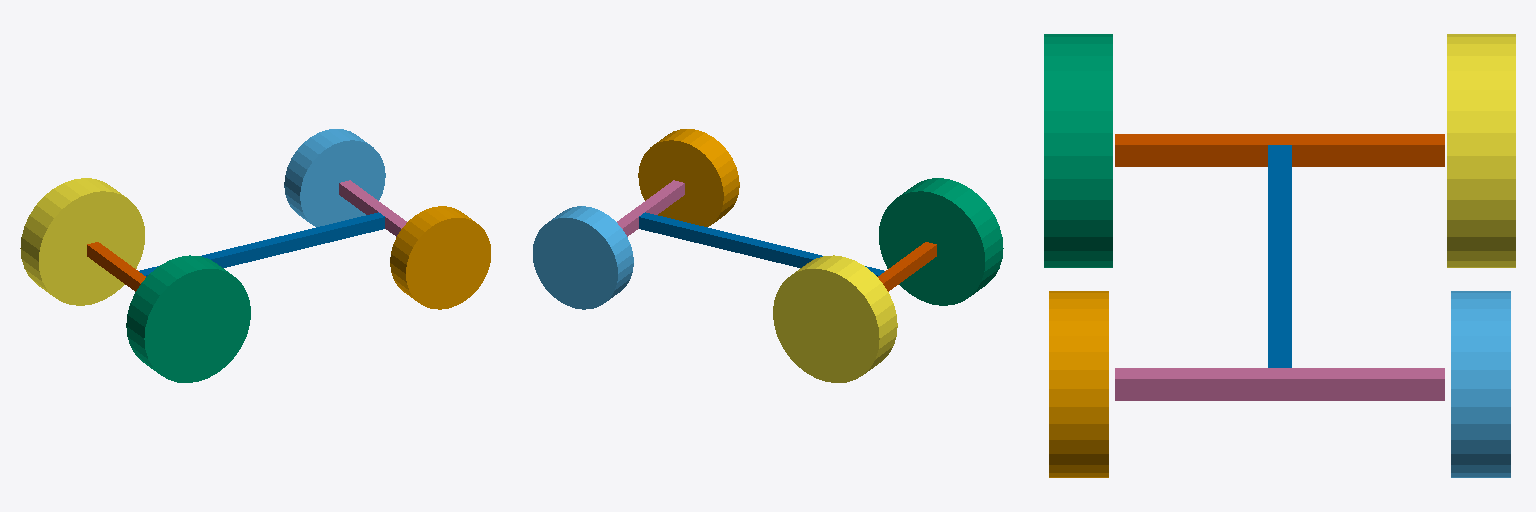
robot.urdf — vehicle:
<?xml version="1.0" ?>
<robot name="vehicle">
  <joint name="vehicle__center_axel__front_axel" type="fixed">
    <parent link="vehicle__link_2"/>
    <child link="vehicle__link_2_clone_clone"/>
    <origin xyz="0      0.56699 0.5" rpy="0     0     1.5708"/>
    <axis xyz="0 0 0"/>
    <limit lower="0" upper="0" effort="0" velocity="0"/>
  </joint>
  
  <joint name="vehicle__center_axel__rear_axel" type="fixed">
    <parent link="vehicle__link_2"/>
    <child link="vehicle__link_2_clone"/>
    <origin xyz="-1.56     0.56699  0.5" rpy="0     0     1.5708"/>
    <axis xyz="0 0 0"/>
    <limit lower="0" upper="0" effort="0" velocity="0"/>
  </joint>
  
  <joint name="vehicle__rear_axel__rear_right_wheel" type="revolute">
    <parent link="vehicle__link_2_clone"/>
    <child link="vehicle__link_0_clone_0"/>
    <origin xyz="-0.56699  0       0" rpy="1.5708  0     -1.5708"/>
    <axis xyz="0 0 1"/>
    <limit lower="-1.79769e+308" upper="1.79769e+308" effort="-1.0" velocity="-1.0"/>
  </joint>
  
  <joint name="vehicle__rear_axel__rear_left_wheel" type="revolute">
    <parent link="vehicle__link_2_clone"/>
    <child link="vehicle__link_0_clone_0_clone"/>
    <origin xyz="0.56699 0      0" rpy="1.5708  0     -1.5708"/>
    <axis xyz="0 0 1"/>
    <limit lower="-1.79769e+308" upper="1.79769e+308" effort="-1.0" velocity="-1.0"/>
  </joint>
  
  <joint name="vehicle__front_axel__front_right_wheel" type="revolute">
    <parent link="vehicle__link_2_clone_clone"/>
    <child link="vehicle__link_0"/>
    <origin xyz="-0.56699  0       0" rpy="1.5708  0     -1.5708"/>
    <axis xyz="0 1 0"/>
    <limit lower="-1.79769e+308" upper="1.79769e+308" effort="-1.0" velocity="-1.0"/>
  </joint>
  
  <joint name="vehicle__front_axel__front_left_wheel" type="revolute">
    <parent link="vehicle__link_2_clone_clone"/>
    <child link="vehicle__link_0_clone"/>
    <origin xyz="0.56699 0      0" rpy="1.5708  0     -1.5708"/>
    <axis xyz="0 1 0"/>
    <limit lower="-1.79769e+308" upper="1.79769e+308" effort="-1.0" velocity="-1.0"/>
  </joint>
  
  <link name="vehicle__link_0">
    <inertial>
      <mass value="2.81288"/>
      <origin xyz="0 0 0" rpy="0 0 0"/>
      <inertia ixx="0.0561581" ixy="0" ixz="0" iyy="0.0561581" iyz="0" izz="0.0987674"/>
    </inertial>
    <collision name="vehicle__collision">
      <origin xyz="0 0 0" rpy="0 0 0"/>
      <geometry>
        <cylinder radius="0.265" length="0.17"/>
      </geometry>
    </collision>
    <visual name="vehicle__visual">
      <origin xyz="0 0 0" rpy="0 0 0"/>
      <geometry>
        <cylinder radius="0.265" length="0.17"/>
      </geometry>
    </visual>
  </link>
  
  <link name="vehicle__link_0_clone">
    <inertial>
      <mass value="2.81288"/>
      <origin xyz="0 0 0" rpy="0 0 0"/>
      <inertia ixx="0.0561581" ixy="0" ixz="0" iyy="0.0561581" iyz="0" izz="0.0987674"/>
    </inertial>
    <collision name="vehicle__collision">
      <origin xyz="0 0 0" rpy="0 0 0"/>
      <geometry>
        <cylinder radius="0.265" length="0.17"/>
      </geometry>
    </collision>
    <visual name="vehicle__visual">
      <origin xyz="0 0 0" rpy="0 0 0"/>
      <geometry>
        <cylinder radius="0.265" length="0.17"/>
      </geometry>
    </visual>
  </link>
  
  <link name="vehicle__link_0_clone_0">
    <inertial>
      <mass value="1"/>
      <origin xyz="0 0 0" rpy="0 0 0"/>
      <inertia ixx="0.145833" ixy="0" ixz="0" iyy="0.145833" iyz="0" izz="0.125"/>
    </inertial>
    <collision name="vehicle__collision">
      <origin xyz="0 0 0" rpy="0 0 0"/>
      <geometry>
        <cylinder radius="0.3305" length="0.194"/>
      </geometry>
    </collision>
    <visual name="vehicle__visual">
      <origin xyz="0 0 0" rpy="0 0 0"/>
      <geometry>
        <cylinder radius="0.3305" length="0.194"/>
      </geometry>
    </visual>
  </link>
  
  <link name="vehicle__link_0_clone_0_clone">
    <inertial>
      <mass value="1"/>
      <origin xyz="0 0 0" rpy="0 0 0"/>
      <inertia ixx="0.145833" ixy="0" ixz="0" iyy="0.145833" iyz="0" izz="0.125"/>
    </inertial>
    <collision name="vehicle__collision">
      <origin xyz="0 0 0" rpy="0 0 0"/>
      <geometry>
        <cylinder radius="0.3305" length="0.194"/>
      </geometry>
    </collision>
    <visual name="vehicle__visual">
      <origin xyz="0 0 0" rpy="0 0 0"/>
      <geometry>
        <cylinder radius="0.3305" length="0.194"/>
      </geometry>
    </visual>
  </link>
  <link name="vehicle__link_2">
    <inertial>
      <mass value="0.547575"/>
      <origin xyz="0 0 0" rpy="0 0 0"/>
      <inertia ixx="0.00044719" ixy="0" ixz="0" iyy="0.10153" iyz="0" izz="0.10153"/>
    </inertial>
    <collision name="vehicle__collision">
      <origin xyz="-0.78     0.56699  0.5" rpy="0 0 0"/>
      <geometry>
        <box size="1.49 0.07 0.07"/>
      </geometry>
    </collision>
    <visual name="vehicle__visual">
      <origin xyz="-0.78     0.56699  0.5" rpy="0 0 0"/>
      <geometry>
        <box size="1.49 0.07 0.07"/>
      </geometry>
    </visual>
  </link>
  
  <link name="vehicle__link_2_clone">
    <inertial>
      <mass value="0.341352"/>
      <origin xyz="0 0 0" rpy="0 0 0"/>
      <inertia ixx="0.00027877" ixy="0" ixz="0" iyy="0.0246815" iyz="0" izz="0.0246815"/>
    </inertial>
    <collision name="vehicle__collision">
      <origin xyz="0 0 0" rpy="0 0 0"/>
      <geometry>
        <box size="0.928849 0.07 0.07"/>
      </geometry>
    </collision>
    <visual name="vehicle__visual">
      <origin xyz="0 0 0" rpy="0 0 0"/>
      <geometry>
        <box size="0.928849 0.07 0.07"/>
      </geometry>
    </visual>
  </link>
  
  <link name="vehicle__link_2_clone_clone">
    <inertial>
      <mass value="0.341352"/>
      <origin xyz="0 0 0" rpy="0 0 0"/>
      <inertia ixx="0.00027877" ixy="0" ixz="0" iyy="0.0246815" iyz="0" izz="0.0246815"/>
    </inertial>
    <collision name="vehicle__collision">
      <origin xyz="0 0 0" rpy="0 0 0"/>
      <geometry>
        <box size="0.928849 0.07 0.07"/>
      </geometry>
    </collision>
    <visual name="vehicle__visual">
      <origin xyz="0 0 0" rpy="0 0 0"/>
      <geometry>
        <box size="0.928849 0.07 0.07"/>
      </geometry>
    </visual>
  </link>
</robot>

--- Facts derived from the render (not from the file) ---
3 views of the same robot in one strip: view 1: azimuth 30°, elevation 25°; view 2: azimuth 150°, elevation 25°; view 3: azimuth 270°, elevation 25° (orthographic).
Model vehicle with 7 links and 6 joints (4 revolute, 2 fixed), rooted at vehicle__link_2, posed every joint at zero.
Visible links, largest first — view 1: vehicle__link_0_clone_0, vehicle__link_0_clone_0_clone, vehicle__link_0, vehicle__link_0_clone, vehicle__link_2, vehicle__link_2_clone_clone, vehicle__link_2_clone; view 2: vehicle__link_0_clone_0_clone, vehicle__link_0_clone_0, vehicle__link_0_clone, vehicle__link_0, vehicle__link_2, vehicle__link_2_clone_clone, vehicle__link_2_clone; view 3: vehicle__link_0_clone_0, vehicle__link_0_clone_0_clone, vehicle__link_0, vehicle__link_0_clone, vehicle__link_2_clone_clone, vehicle__link_2_clone, vehicle__link_2.
Boxes of the visible links, x1,y1,x2,y2 form: vehicle__link_0_clone_0: (126, 255, 250, 382); vehicle__link_0_clone_0_clone: (20, 178, 144, 305); vehicle__link_0: (390, 206, 490, 309); vehicle__link_0_clone: (284, 129, 385, 226); vehicle__link_2: (139, 212, 384, 276); vehicle__link_2_clone_clone: (339, 180, 406, 236); vehicle__link_2_clone: (87, 242, 145, 291); vehicle__link_0_clone_0_clone: (773, 255, 897, 382); vehicle__link_0_clone_0: (879, 178, 1003, 305); vehicle__link_0_clone: (533, 206, 633, 309); vehicle__link_0: (638, 129, 739, 226); vehicle__link_2: (639, 212, 884, 276); vehicle__link_2_clone_clone: (617, 180, 684, 236); vehicle__link_2_clone: (878, 242, 936, 291); vehicle__link_0_clone_0: (1044, 34, 1112, 267); vehicle__link_0_clone_0_clone: (1447, 34, 1515, 267); vehicle__link_0: (1049, 291, 1108, 477); vehicle__link_0_clone: (1451, 291, 1510, 477); vehicle__link_2_clone_clone: (1115, 368, 1444, 400); vehicle__link_2_clone: (1115, 134, 1444, 166); vehicle__link_2: (1268, 145, 1291, 367).
Size in the robot's own frame: 2.16 by 1.33 by 0.661 metres.
Geometry: primitives only (box / cylinder / sphere), no mesh files.